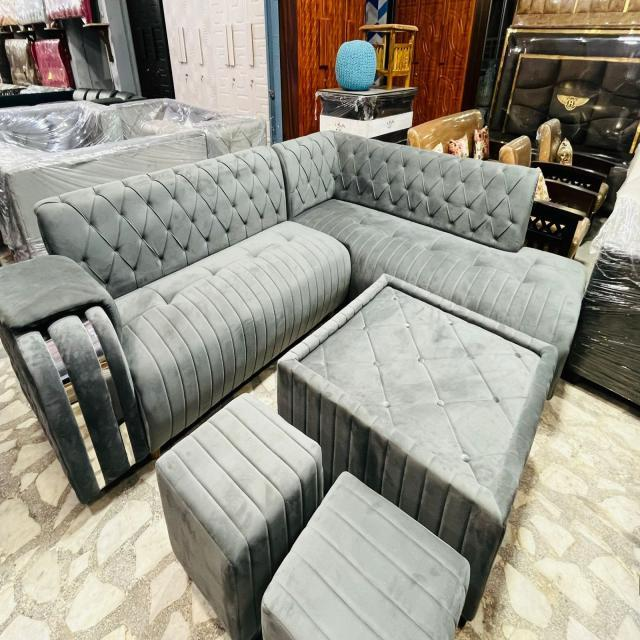sofa: (0, 135, 594, 508)
